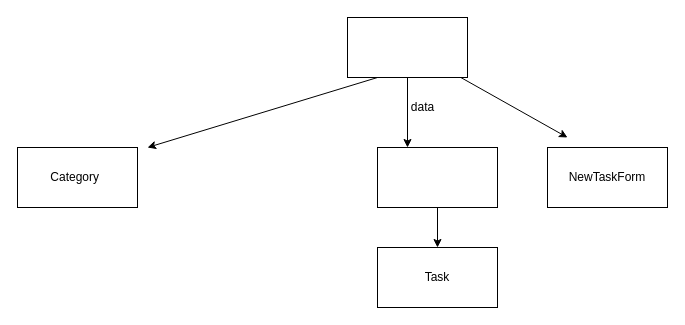
This 685x325 diagram has some shape labels left out. Each missing label, with the box of its shape:
App: (346, 16, 468, 78)
TaskLists: (376, 146, 498, 208)
